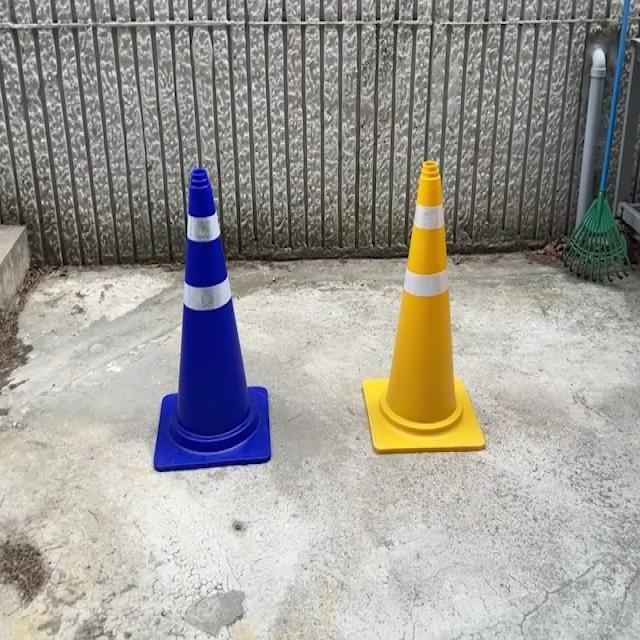b_rub: (154, 167, 271, 471)
y_rub: (363, 160, 486, 453)
